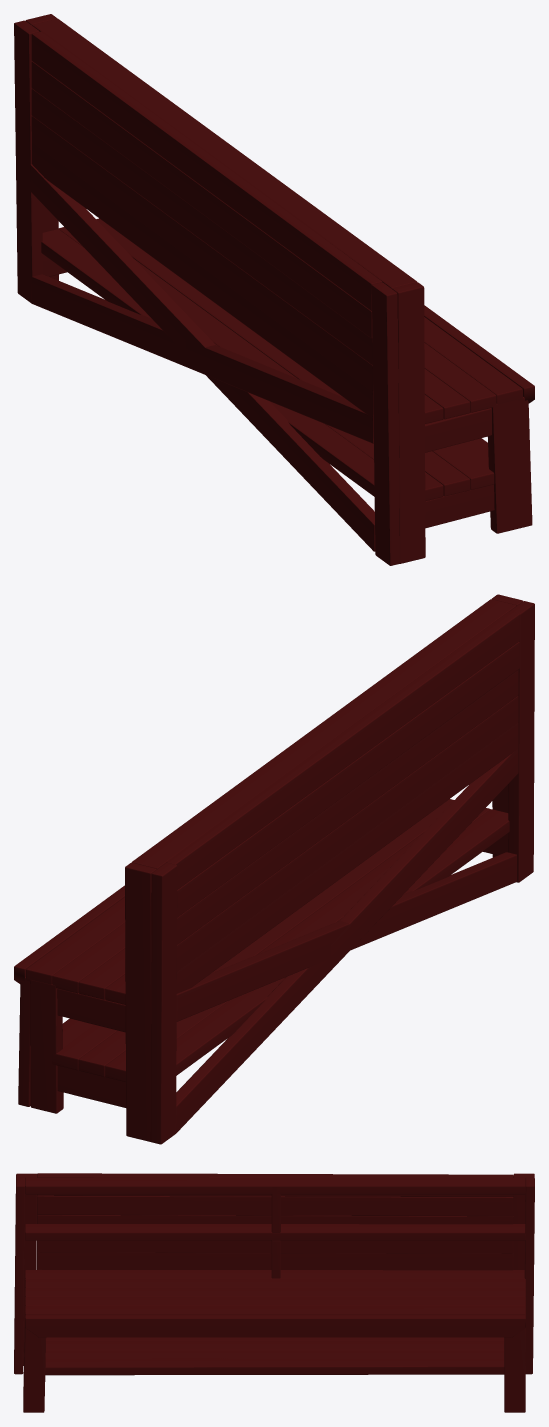
Rendered from Worktable.fbx.
The picture shows the model from 3 angles, top to bottom: view 1: azimuth 30°, elevation 25°; view 2: azimuth 150°, elevation 25°; view 3: azimuth 270°, elevation 25°; orthographic projection. The views are drawn at different scales.
Parts seen in each view (by area): view 1: pSphere4; view 2: pSphere4; view 3: pSphere4.
Boxes of the visible parts, x1,y1,x2,y2 form: pSphere4: (14,14,534,565); pSphere4: (14,594,534,1144); pSphere4: (14,1173,534,1412).
Bounding box in the file's own units: 5.87 × 9.79 × 24.5.
